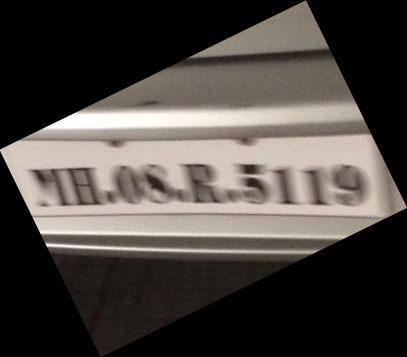character: (183, 161, 222, 205), (63, 165, 103, 206), (332, 162, 365, 209), (112, 163, 145, 207), (271, 162, 298, 205), (301, 167, 329, 207)
